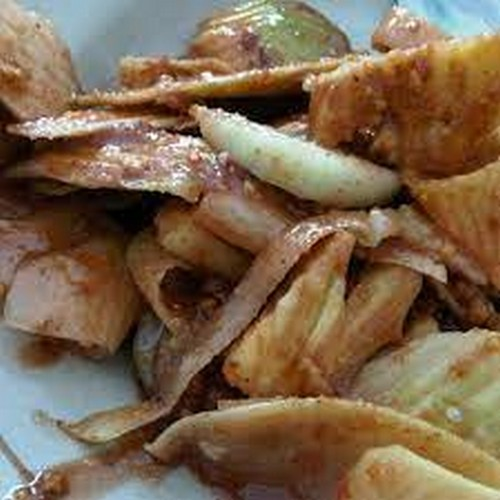rujak buleleng: (20, 57, 500, 494)
